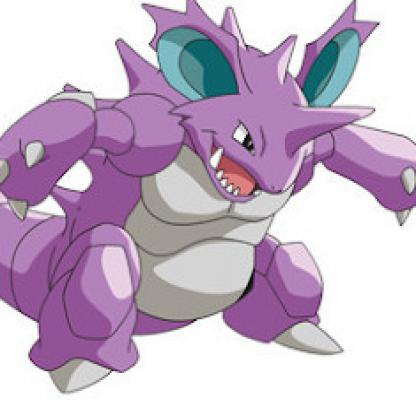Nidoking: (1, 1, 415, 385)
